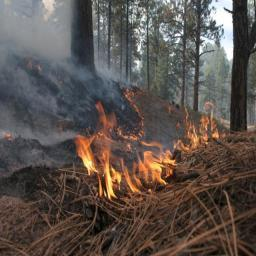Low smoke: (1, 0, 71, 162)
Small fire: (64, 58, 232, 208)
